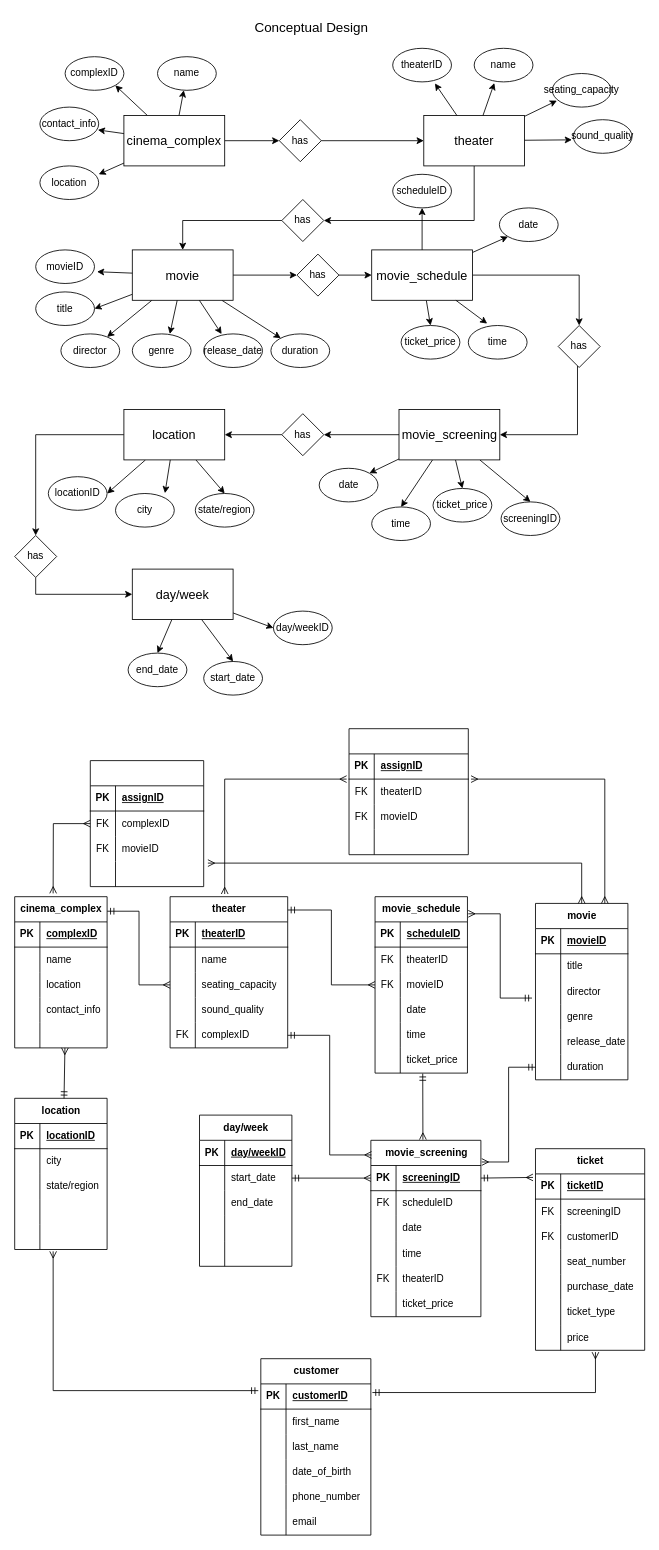
Image size: 659x1550. Some labels were removed from this diagram. Here are the shapes that lost their labels. From the top down, the box of each, then its label:
(348, 728, 468, 855): theater movie assign
(89, 760, 204, 887): complex movie assign
